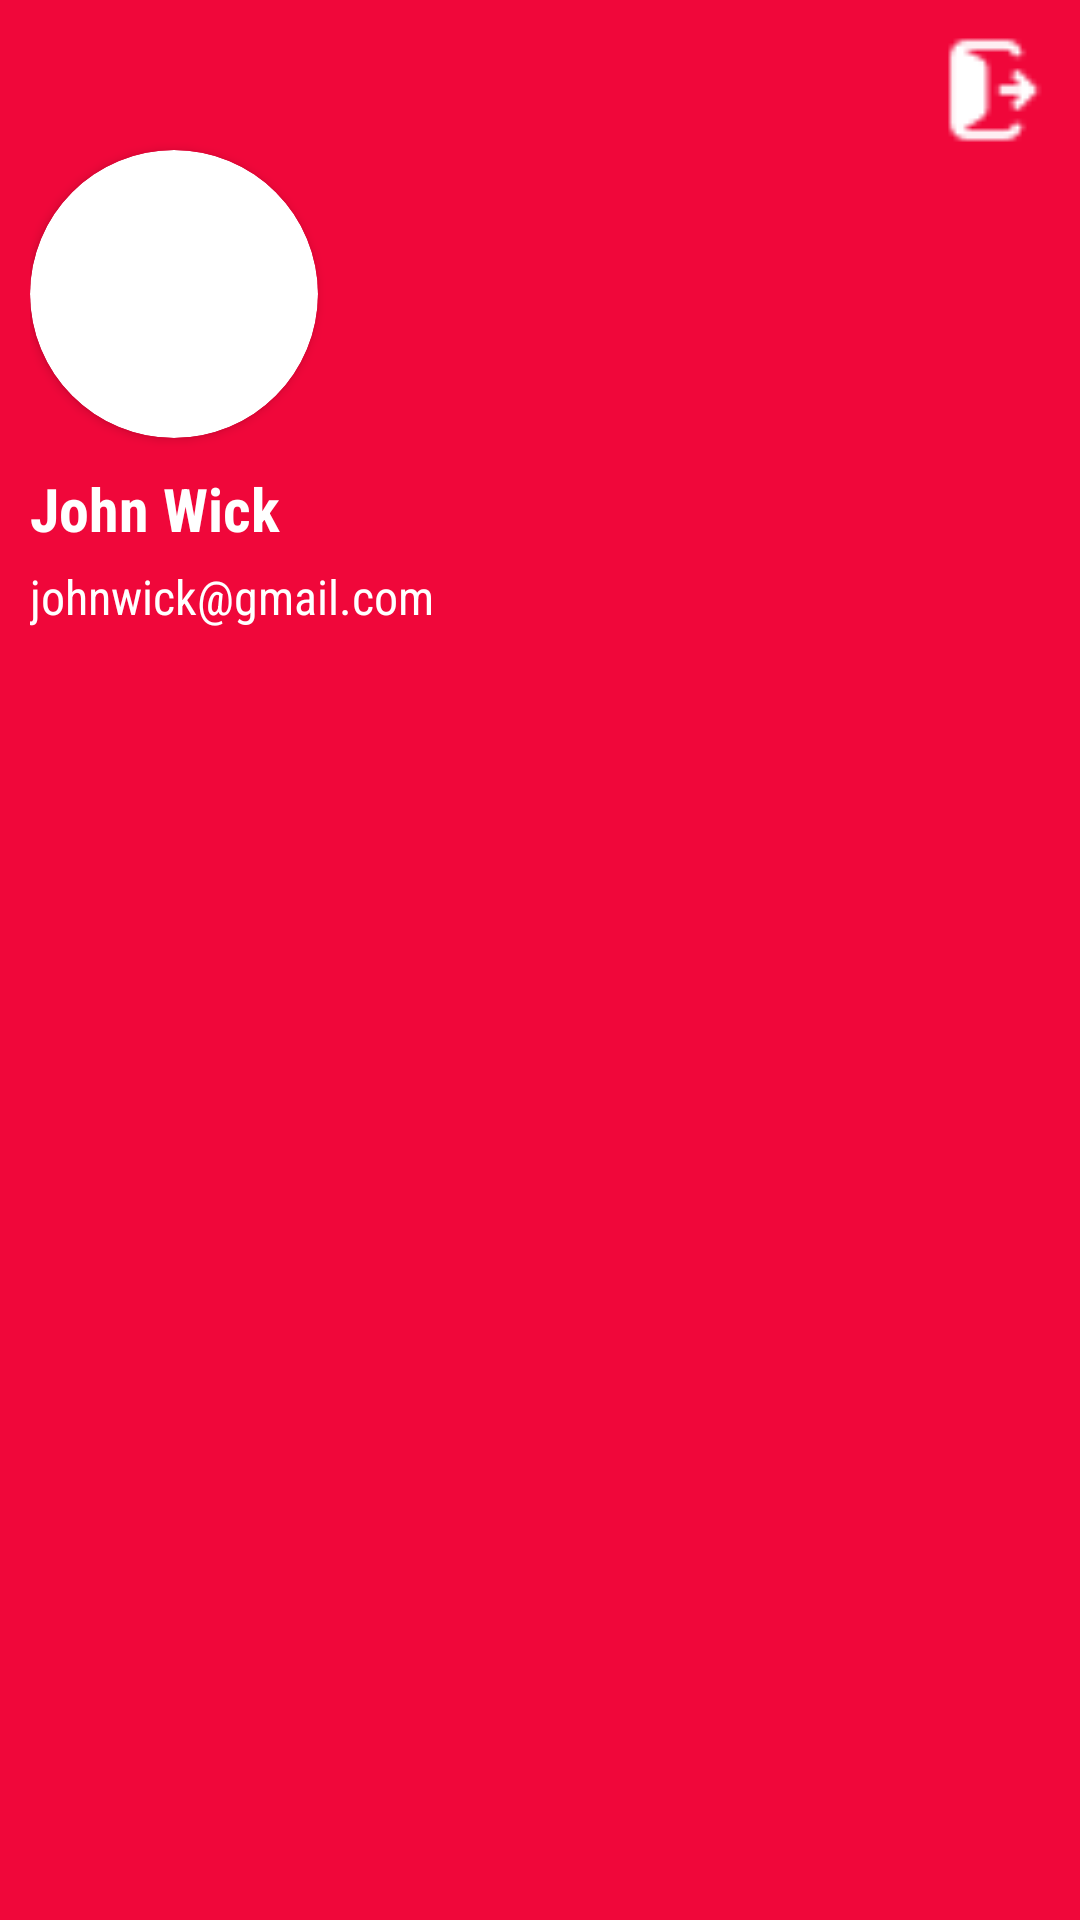

Named icons in this screenshot (1080*1920) and their centers, (x=x, y=y):
exit: (x=994, y=90)
